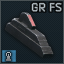M590 ghost ring front sight: (0, 0, 64, 64)
